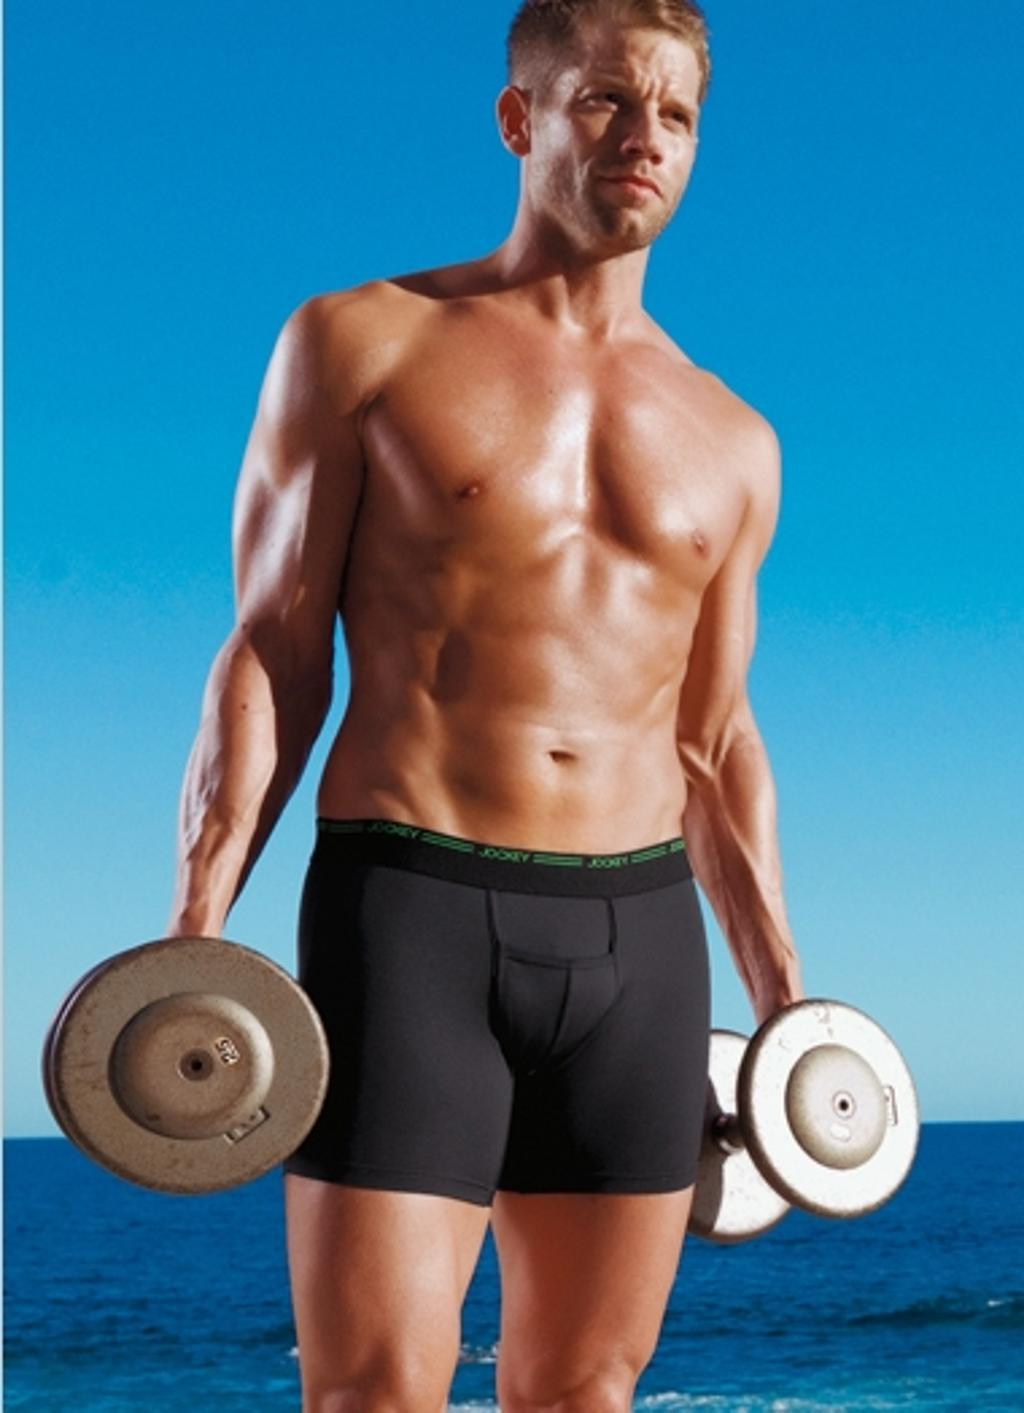face: (556, 29, 697, 244)
